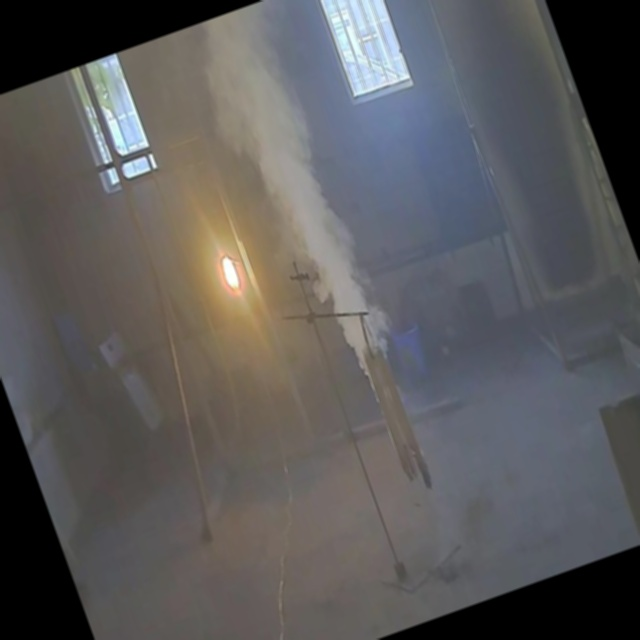smoke: (173, 0, 428, 439)
